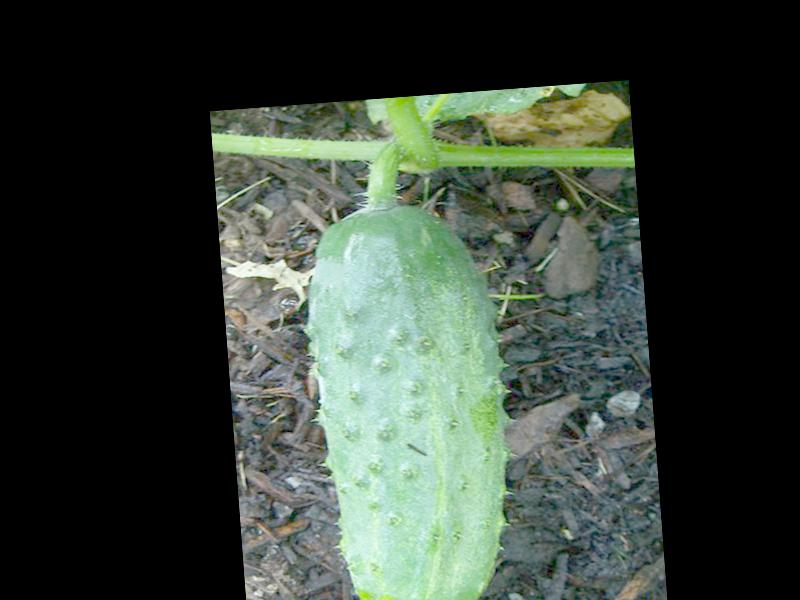Cucumber: (299, 197, 524, 600)
